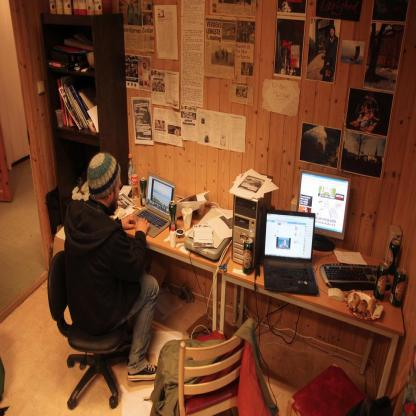board: (267, 207, 320, 304), (131, 172, 176, 239), (390, 266, 408, 310), (373, 262, 389, 299), (387, 239, 402, 270), (168, 197, 178, 228), (139, 176, 149, 204), (131, 167, 139, 202), (54, 106, 65, 129), (129, 152, 136, 188), (169, 221, 177, 250)
